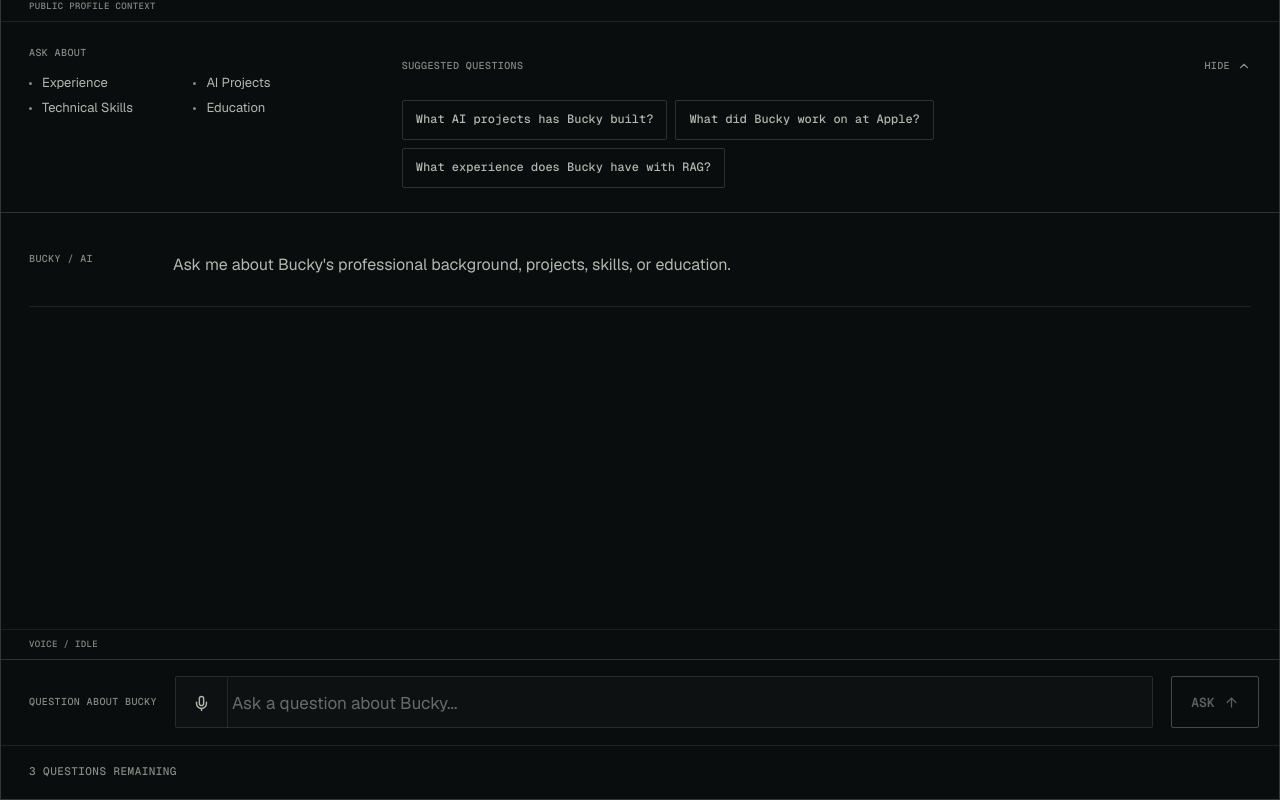
Test case: AskBucky voice input › does not transcribe an empty recording
The width and height of the screenshot is (1280, 800).
(page scrolled)
Check: the field labelled "Question about Bucky" is enabled, box [228, 677, 1152, 729]
Click the button named "Start voice question" at (202, 703), box [176, 678, 228, 728]
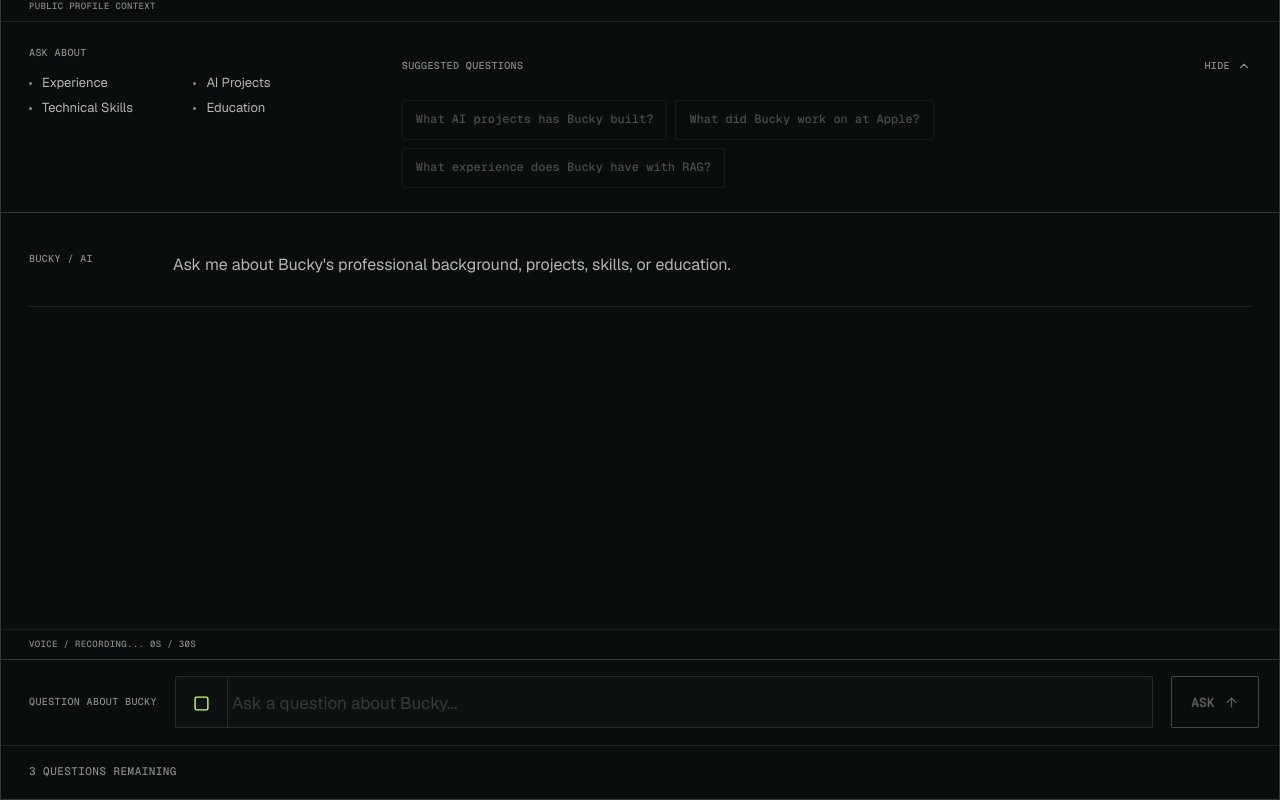
Click the button named "Stop recording" at (202, 703), box [176, 678, 228, 728]
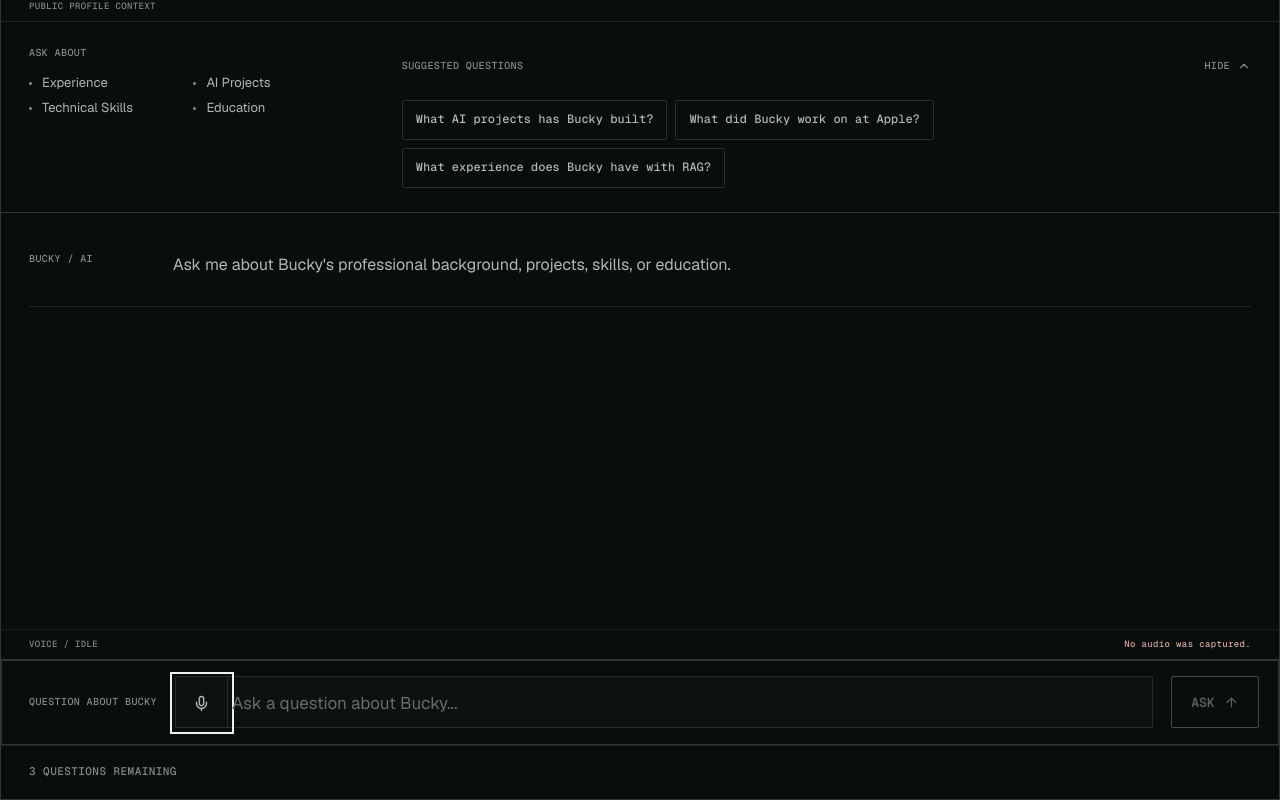
Check: the text "3 questions remaining" is shown, box [29, 764, 177, 780]
Check: the text "No audio was captured." is shown, box [1124, 638, 1251, 650]
